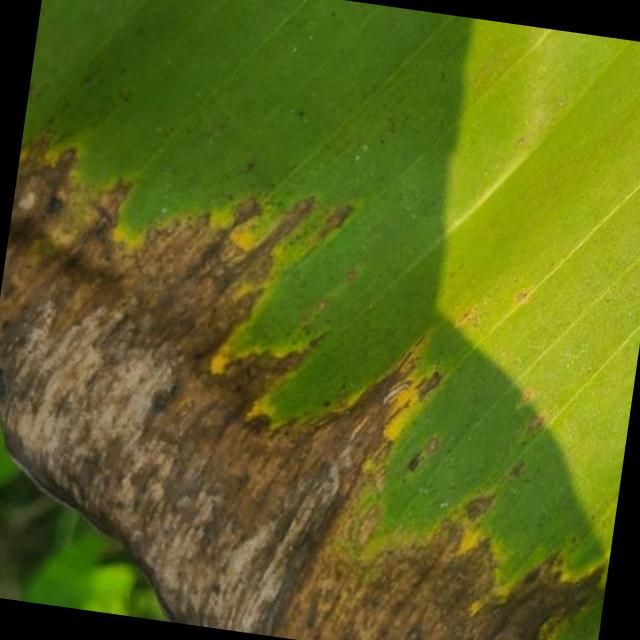Banana_Black_Sigatoka: (0, 127, 307, 556), (122, 459, 612, 640)
